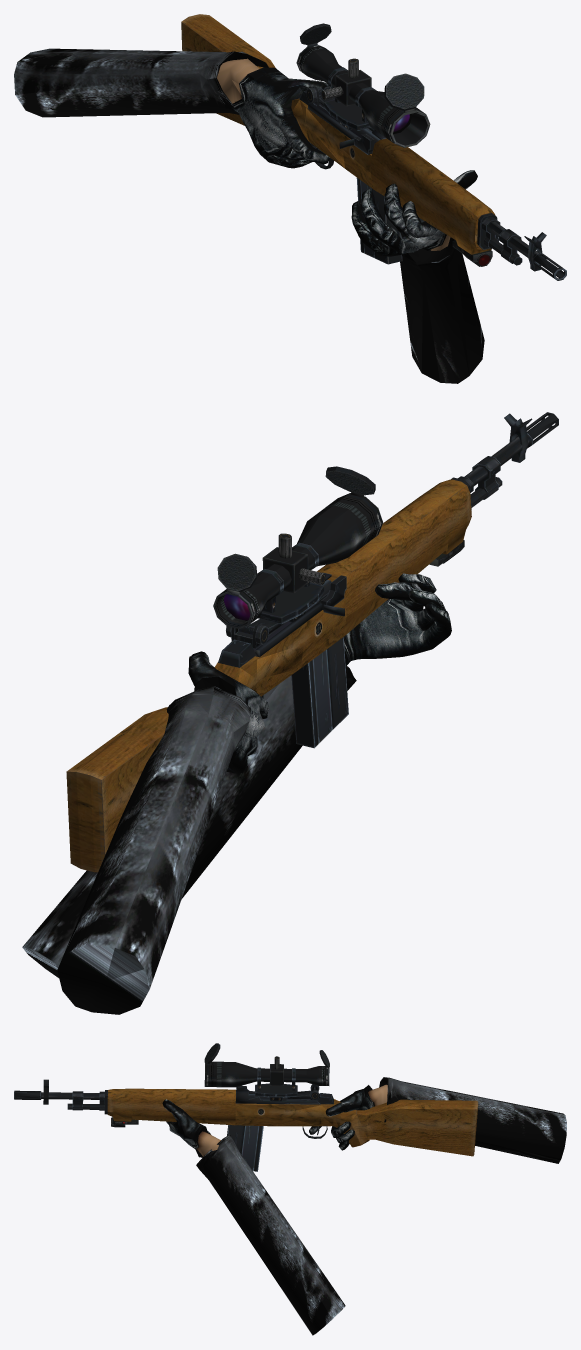
Rendered from sniper.FBX.
3 views of the same model, one above another, from view 1: azimuth 30°, elevation 25°; view 2: azimuth 150°, elevation 25°; view 3: azimuth 270°, elevation 25° (orthographic). The views are drawn at different scales.
Parts seen in each view (by area): view 1: sniper; view 2: sniper; view 3: sniper.
Boxes of the visible parts, x1=… form: sniper: x1=14, y1=14, x2=566, y2=383; sniper: x1=22, y1=412, x2=558, y2=1014; sniper: x1=14, y1=1043, x2=566, y2=1335.
Bounding box in the file's own units: 12.73 × 34.28 × 17.03.
3 materials, 3 textured.
